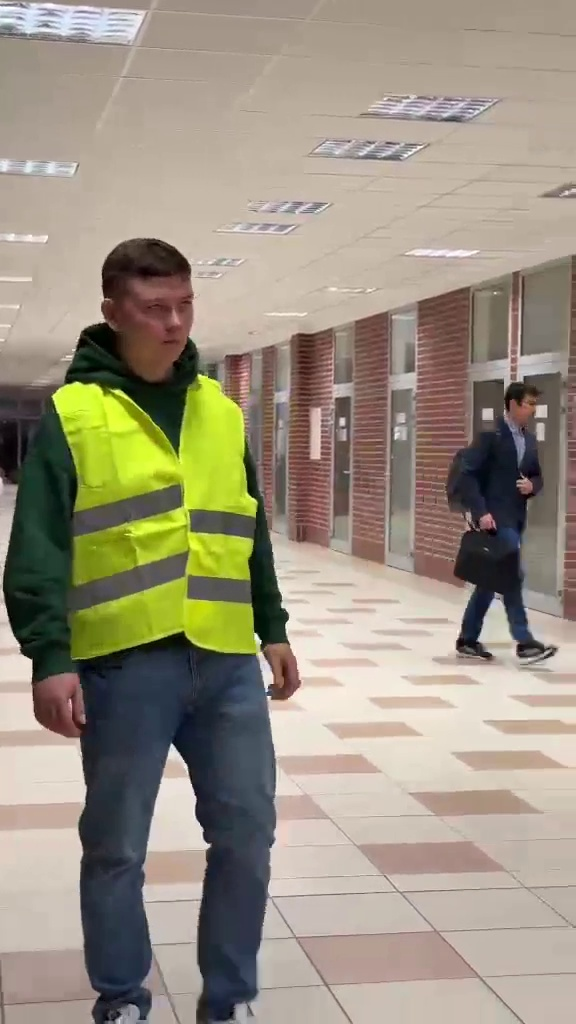no vest: (457, 382, 559, 669)
vest: (20, 232, 306, 1009)
